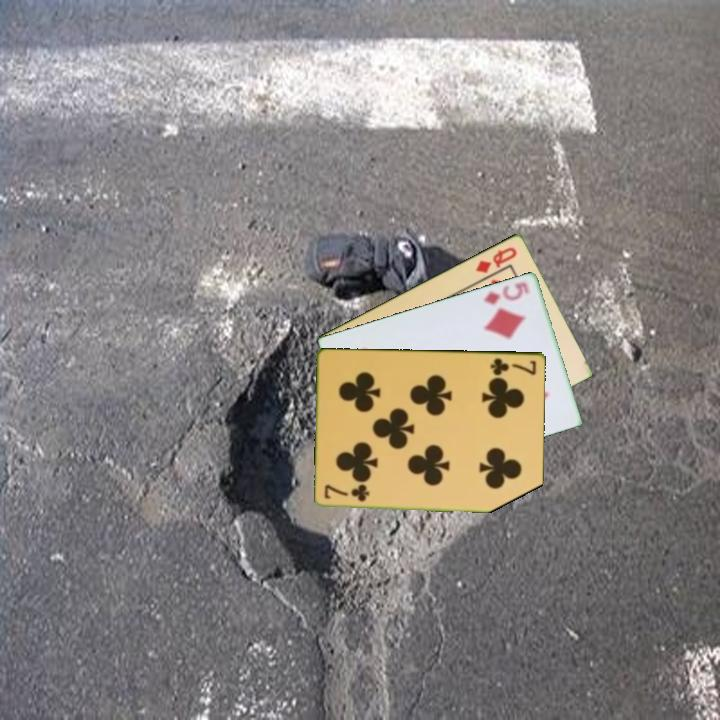5d: (480, 278, 532, 307)
7c: (487, 355, 539, 378), (321, 483, 373, 504)
Qd: (472, 243, 520, 275)
